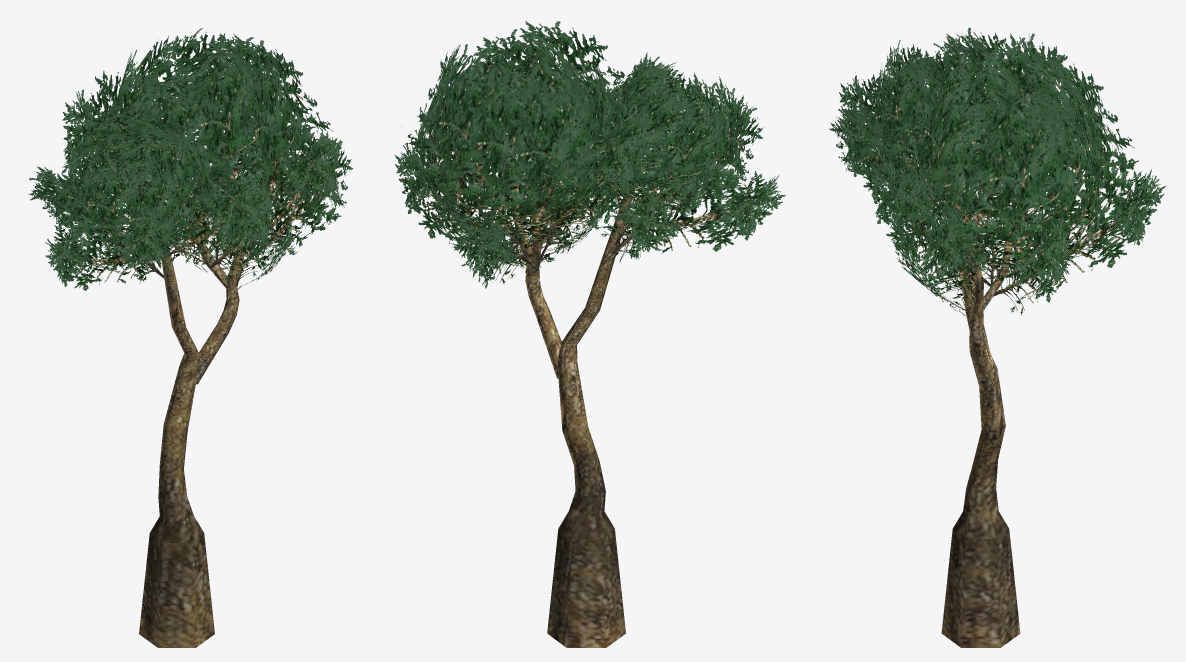
The model's file is tree_pine_aleppo_8.glb.
The picture shows the model from 3 angles, left to right: view 1: azimuth 30°, elevation 25°; view 2: azimuth 150°, elevation 25°; view 3: azimuth 270°, elevation 25°; orthographic projection. The views are drawn at different scales.
Parts seen in each view (by area): view 1: tree_pine_aleppo_8; view 2: tree_pine_aleppo_8; view 3: tree_pine_aleppo_8.
Part boxes in pixels (x1,y1,x2,y2): tree_pine_aleppo_8: (28,28,352,647); tree_pine_aleppo_8: (394,21,785,647); tree_pine_aleppo_8: (829,27,1166,647).
Bounding box in the file's own units: 10.68 × 18.4 × 9.64.
1 material, 1 textured.
